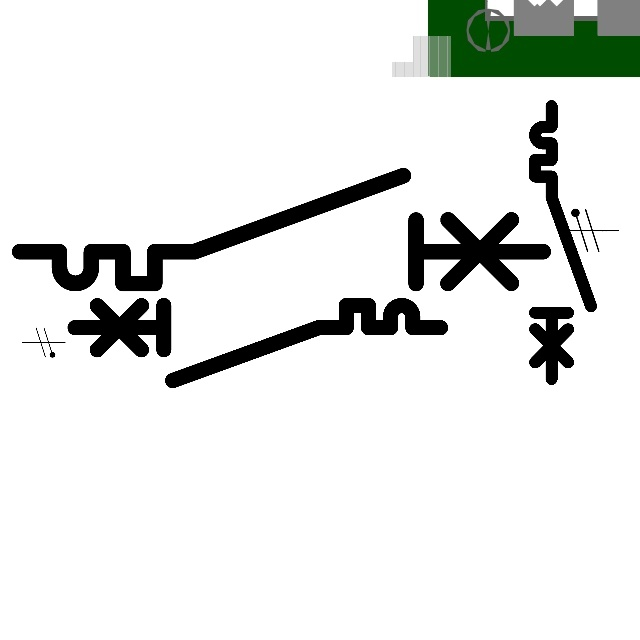interruptor_termomagnetico: (6, 162, 556, 297), (65, 296, 449, 390), (528, 99, 598, 386)
